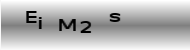2: (79, 20, 92, 33)
E: (25, 10, 37, 23)
M: (58, 18, 77, 32)
i: (37, 16, 43, 30)
s: (108, 12, 121, 23)
